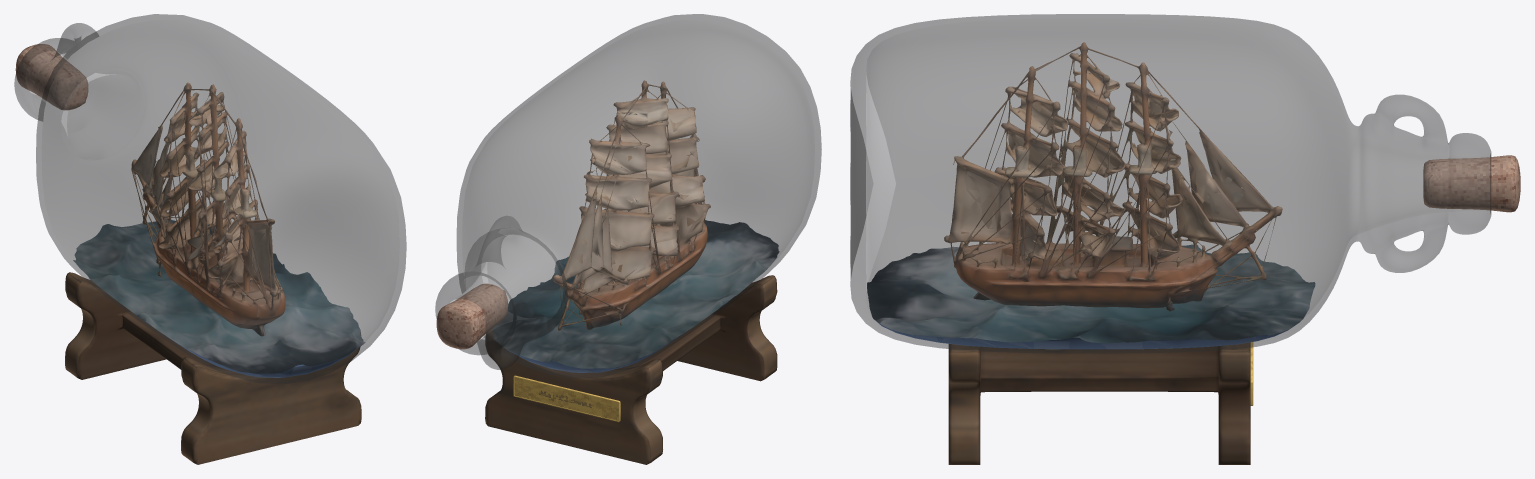
3 views of the same model, side by side, from view 1: azimuth 30°, elevation 25°; view 2: azimuth 150°, elevation 25°; view 3: azimuth 270°, elevation 25° (orthographic). The views are drawn at different scales.
Visible parts, largest first — view 1: bottle_export, boat_export, support_export, sea, cap_export, bottle_export.001; view 2: bottle_export, boat_export, support_export, sea, cap_export, plaque_export; view 3: bottle_export, boat_export, sea, support_export, cap_export, bottle_export.001.
Boxes of the visible parts, x1,y1,x2,y2 form: bottle_export: (14, 14, 406, 384); boat_export: (131, 82, 285, 336); support_export: (65, 272, 361, 464); sea: (73, 219, 365, 377); cap_export: (15, 44, 88, 110); bottle_export.001: (61, 72, 116, 138); bottle_export: (435, 14, 821, 378); boat_export: (552, 80, 710, 330); support_export: (485, 275, 777, 464); sea: (492, 220, 779, 372); cap_export: (436, 283, 508, 349); plaque_export: (513, 375, 620, 422); bottle_export: (850, 14, 1491, 353); boat_export: (944, 42, 1282, 311); sea: (867, 243, 1315, 349); support_export: (948, 342, 1250, 464); cap_export: (1423, 155, 1520, 212); bottle_export.001: (866, 72, 896, 295).
Bounding box in the file's own units: 1.4 × 2.14 × 3.35.
8 materials, 5 textured.
